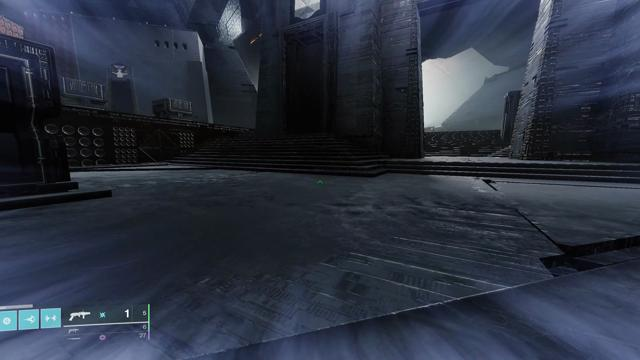commune: (294, 0, 320, 20)
drink: (111, 63, 129, 78)
